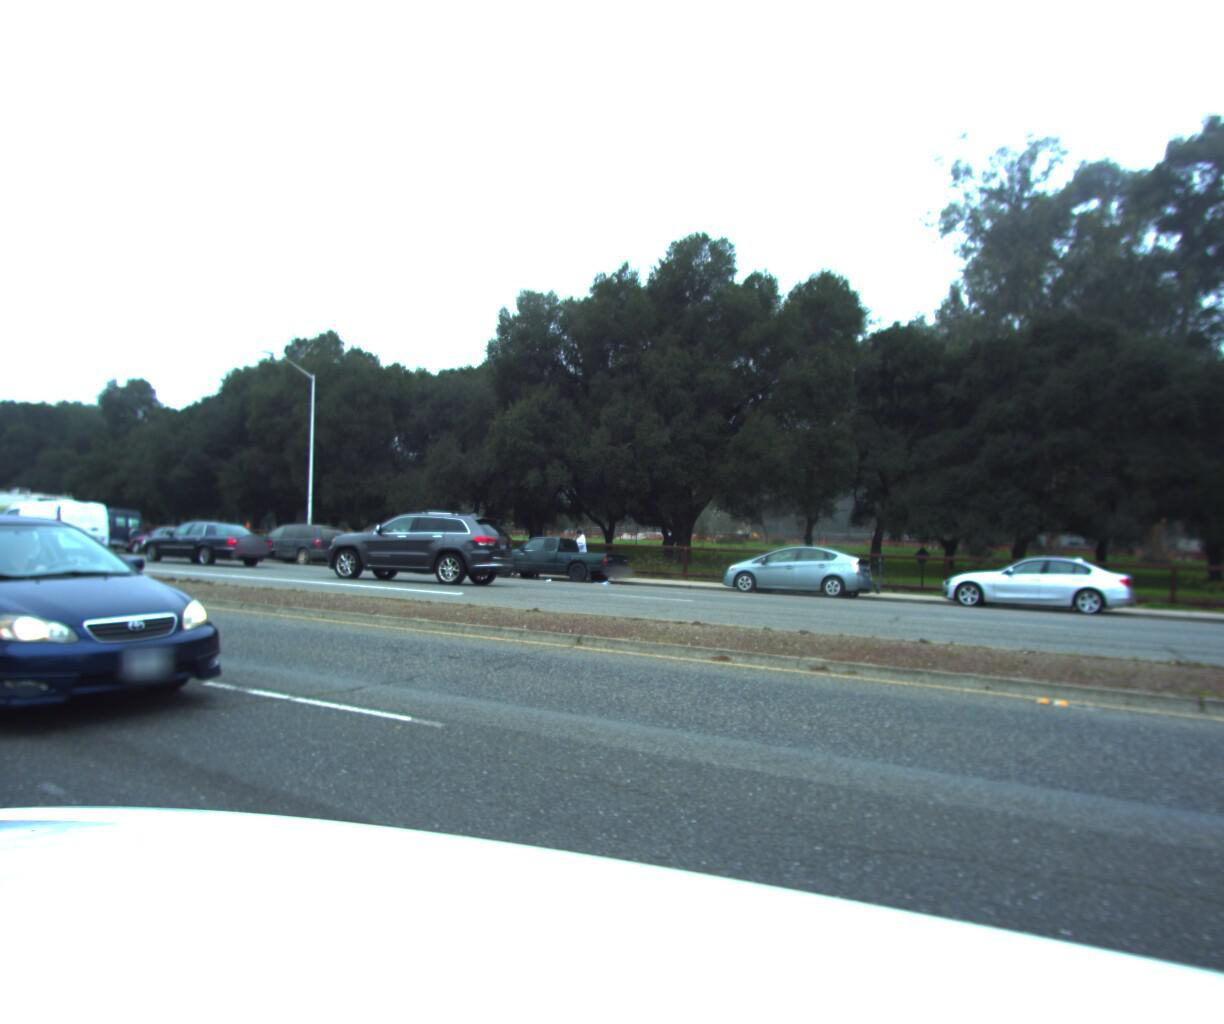car: (0, 502, 268, 763), (312, 505, 529, 593), (929, 545, 1138, 619), (709, 535, 882, 601), (477, 526, 634, 586), (133, 513, 289, 568), (0, 495, 123, 564), (236, 514, 359, 568), (47, 499, 152, 550), (121, 518, 221, 555), (1221, 553, 1224, 647)
other_vehicle: (0, 480, 80, 550)
